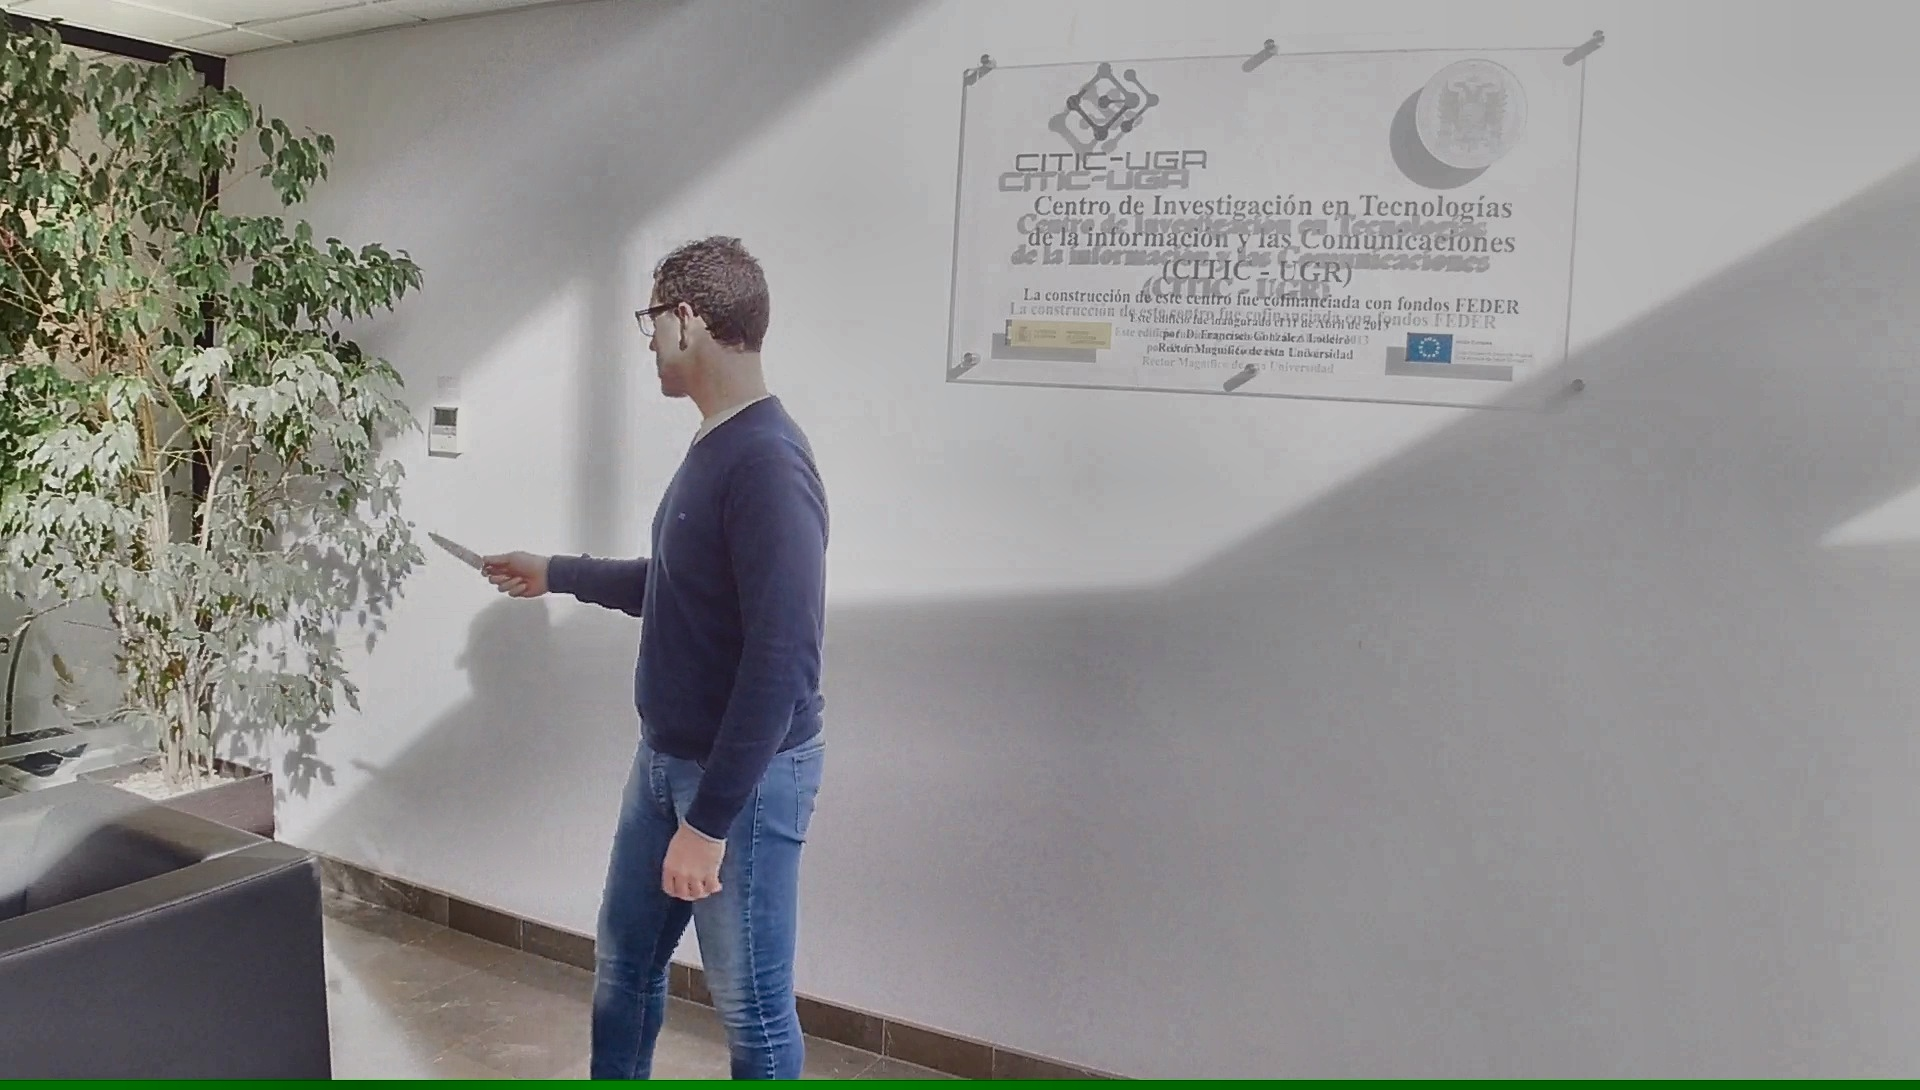knife: (421, 525, 531, 590)
